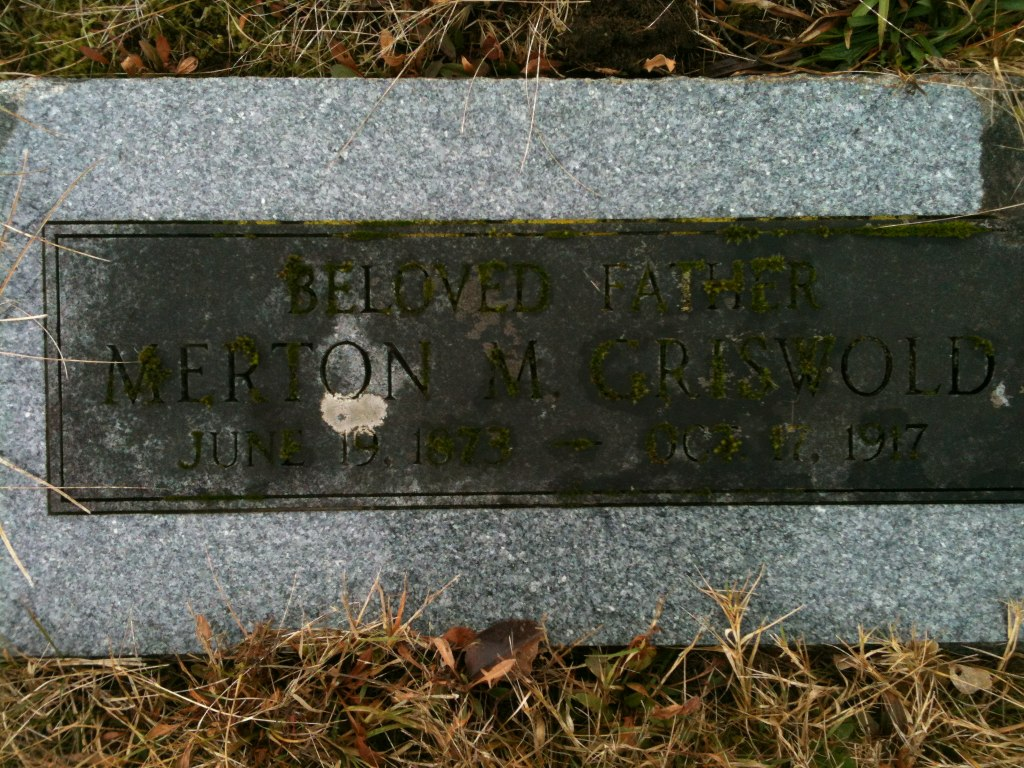flat: (0, 68, 1024, 666)
